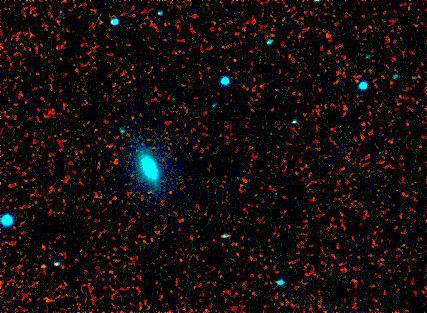star: (29, 254, 59, 284)
